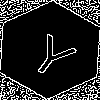Y: (25, 25, 85, 82)
